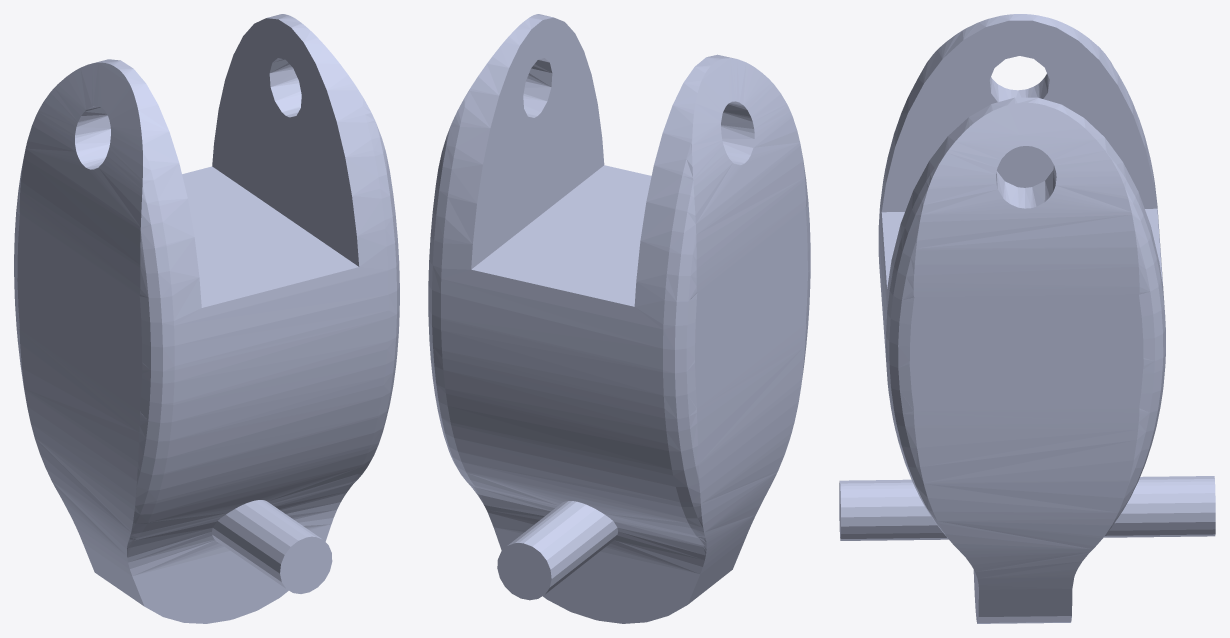
Rendered from ur5e_new_dvrk_wrist_ref_visual_vis_1.dae.
3 views of the same model, side by side, from view 1: azimuth 30°, elevation 25°; view 2: azimuth 150°, elevation 25°; view 3: azimuth 270°, elevation 25° (orthographic).
Parts seen in each view (by area): view 1: Node_0000024FAC4E3D80; view 2: Node_0000024FAC4E3D80; view 3: Node_0000024FAC4E3D80.
Boxes of the visible parts, x1=… form: Node_0000024FAC4E3D80: x1=14, y1=14, x2=399, y2=623; Node_0000024FAC4E3D80: x1=428, y1=14, x2=810, y2=623; Node_0000024FAC4E3D80: x1=839, y1=14, x2=1215, y2=623.
Size of the model in its own units: 0.00645 by 0.013 by 0.00805.
